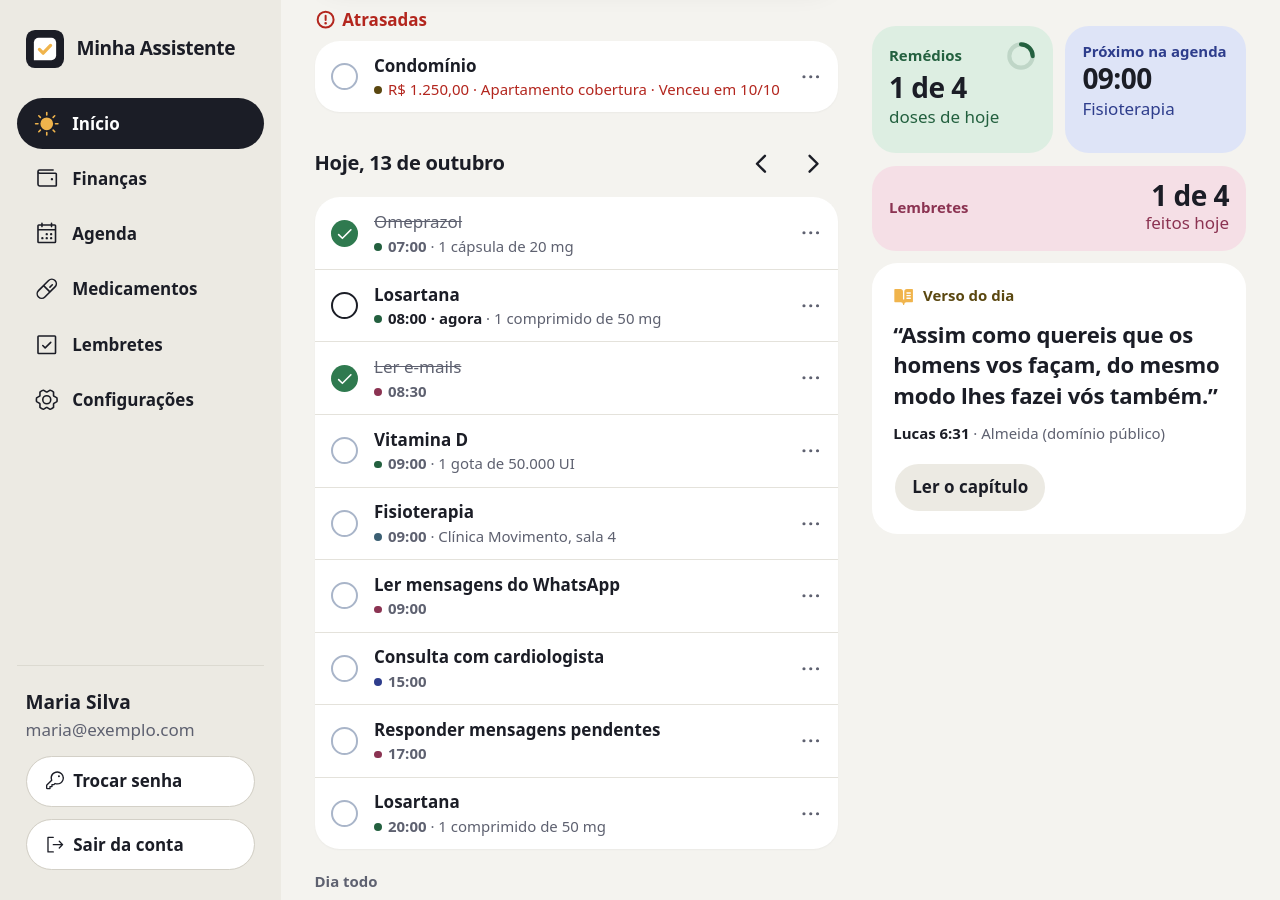
Test: tela Hoje: tarefas do dia › ✓ no remédio vale na tela de Remédios; tocar de novo desfaz
This screenshot has width=1280, height=900.
(page scrolled)
What coordinates should you click on to do the following:
click the button named "Tomei: Vitamina D"
I would click on:
 (344, 451)
Its box is [319,425,370,476].
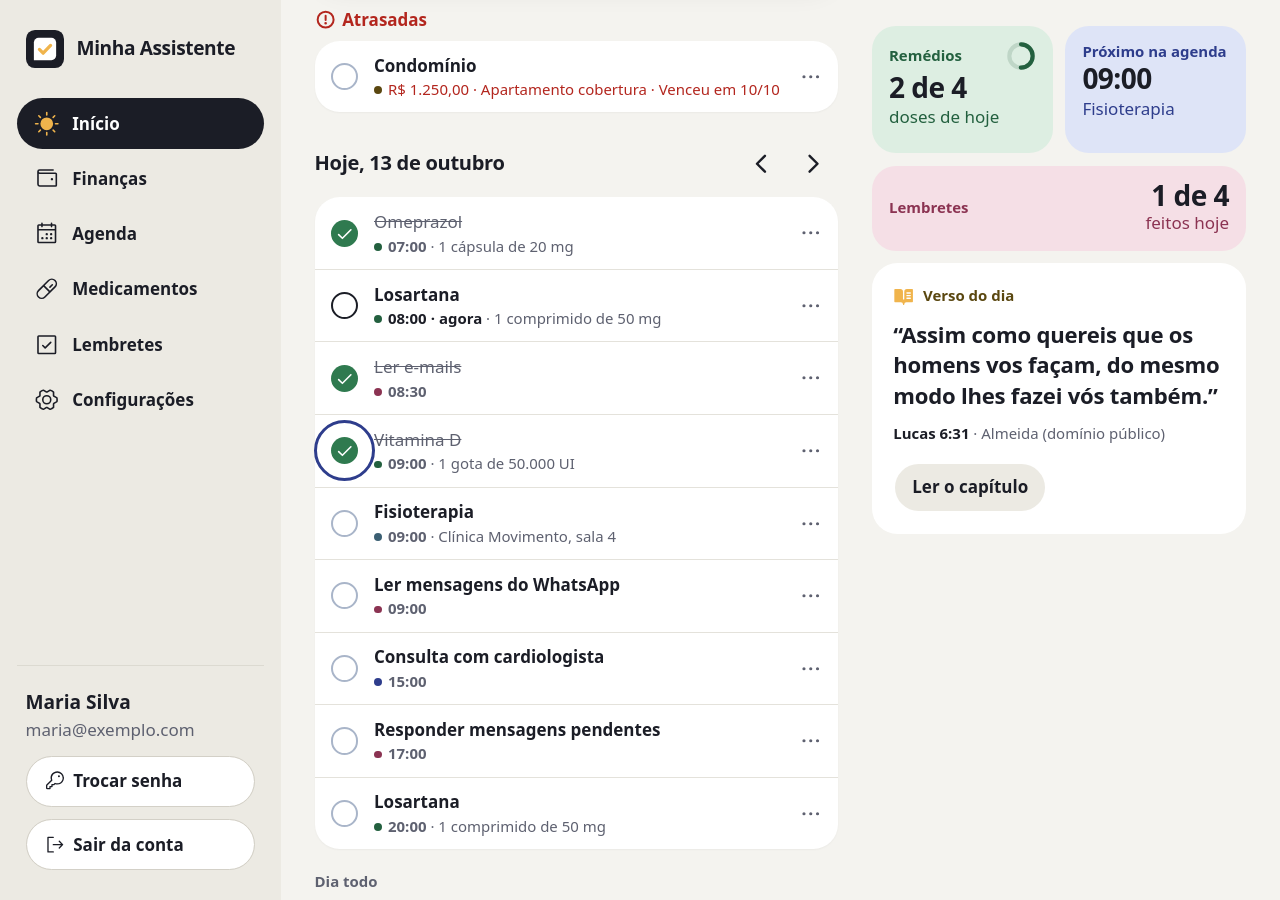
Now the button named "Tomei: Vitamina D" is pressed
What coordinates should you click on to do the following:
click the button named "Tomei: Vitamina D"
I would click on:
 (344, 451)
Its box is [319,425,370,476].
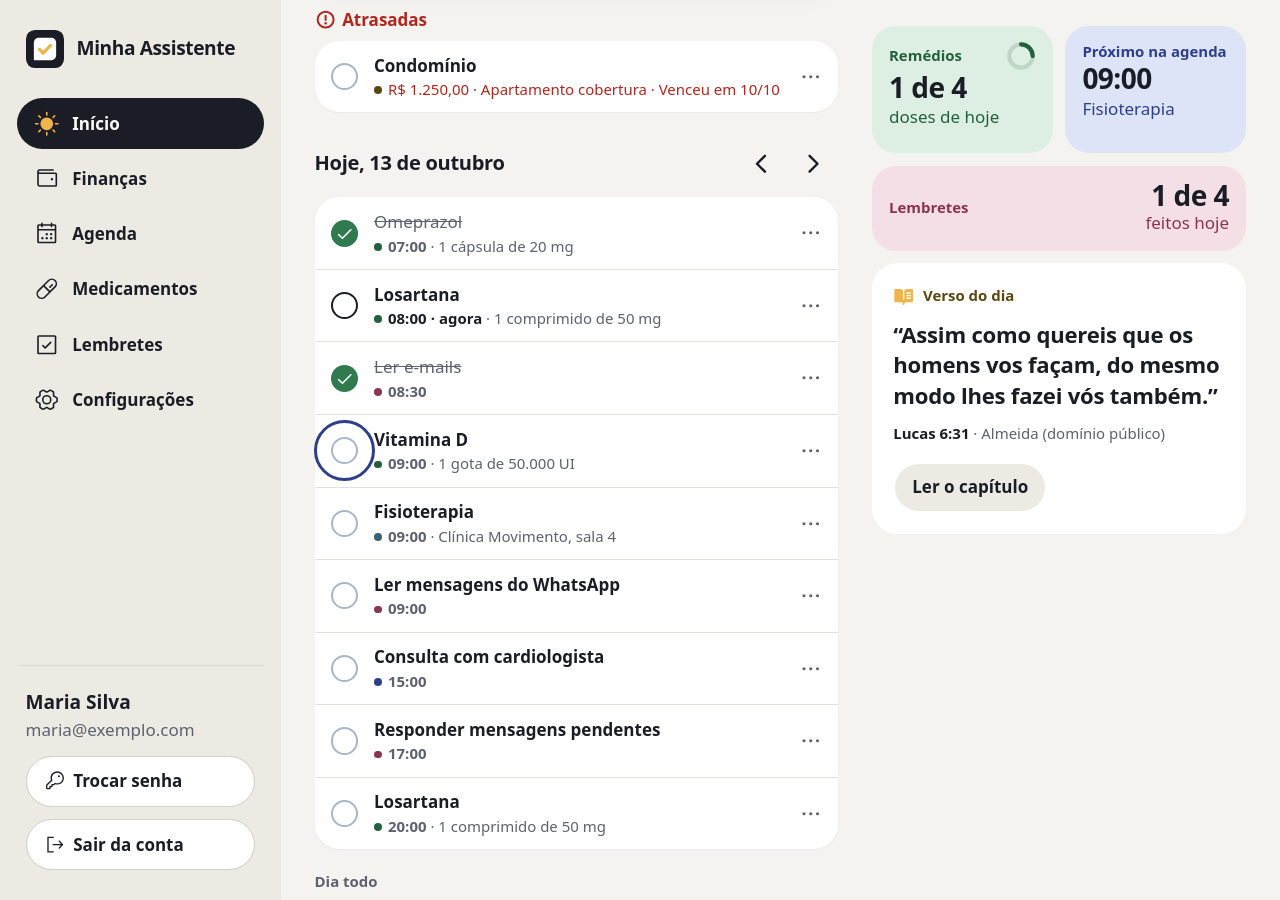
Now the button named "Tomei: Vitamina D" is not pressed
What coordinates should you click on to do the following:
click the button named "Tomei: Vitamina D"
I would click on:
 (344, 451)
Its box is [319,425,370,476].
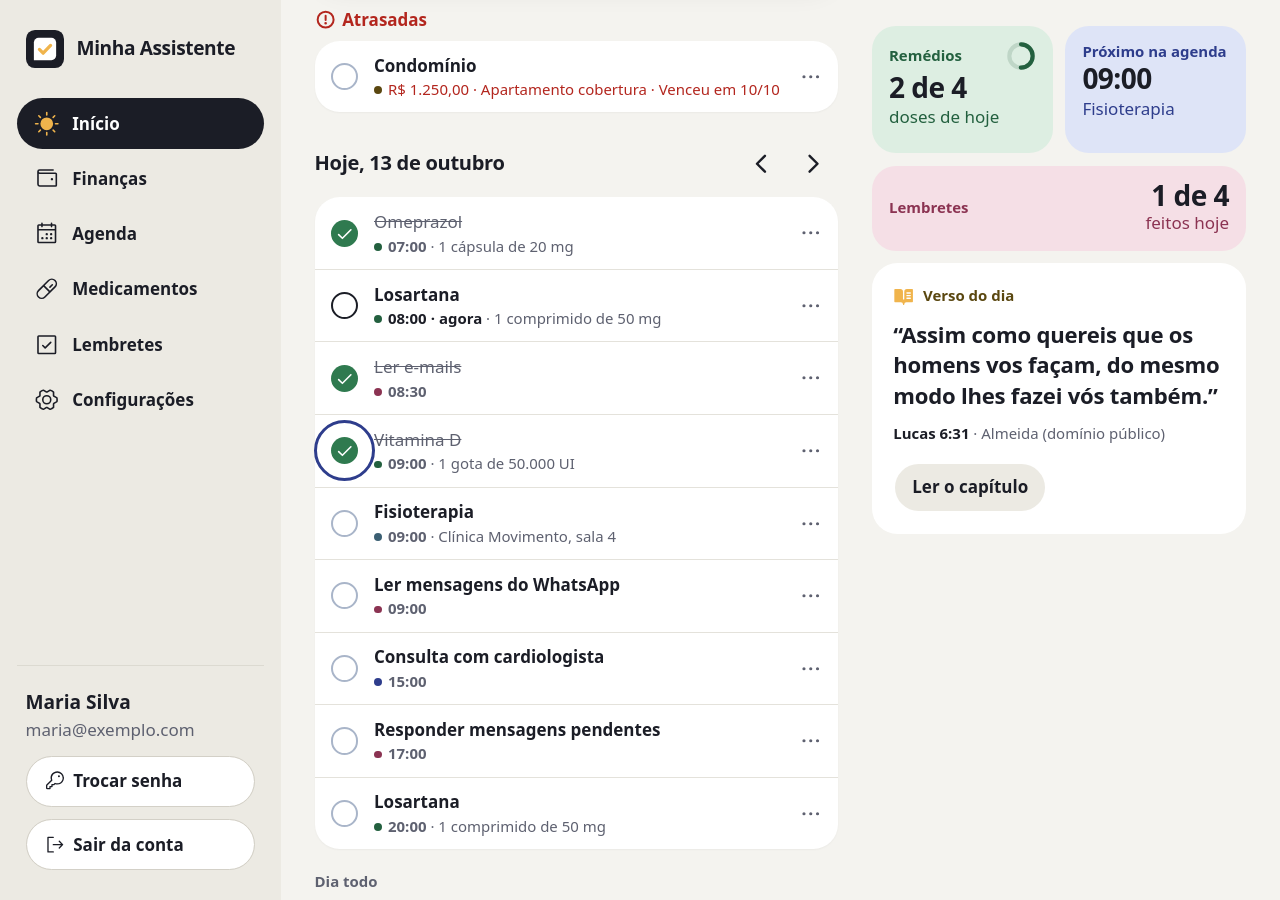
What coordinates should you click on to do the following:
click the link "Medicamentos"
I would click on:
 (116, 289)
Its box is [34,276,198,302].
(page scrolled)
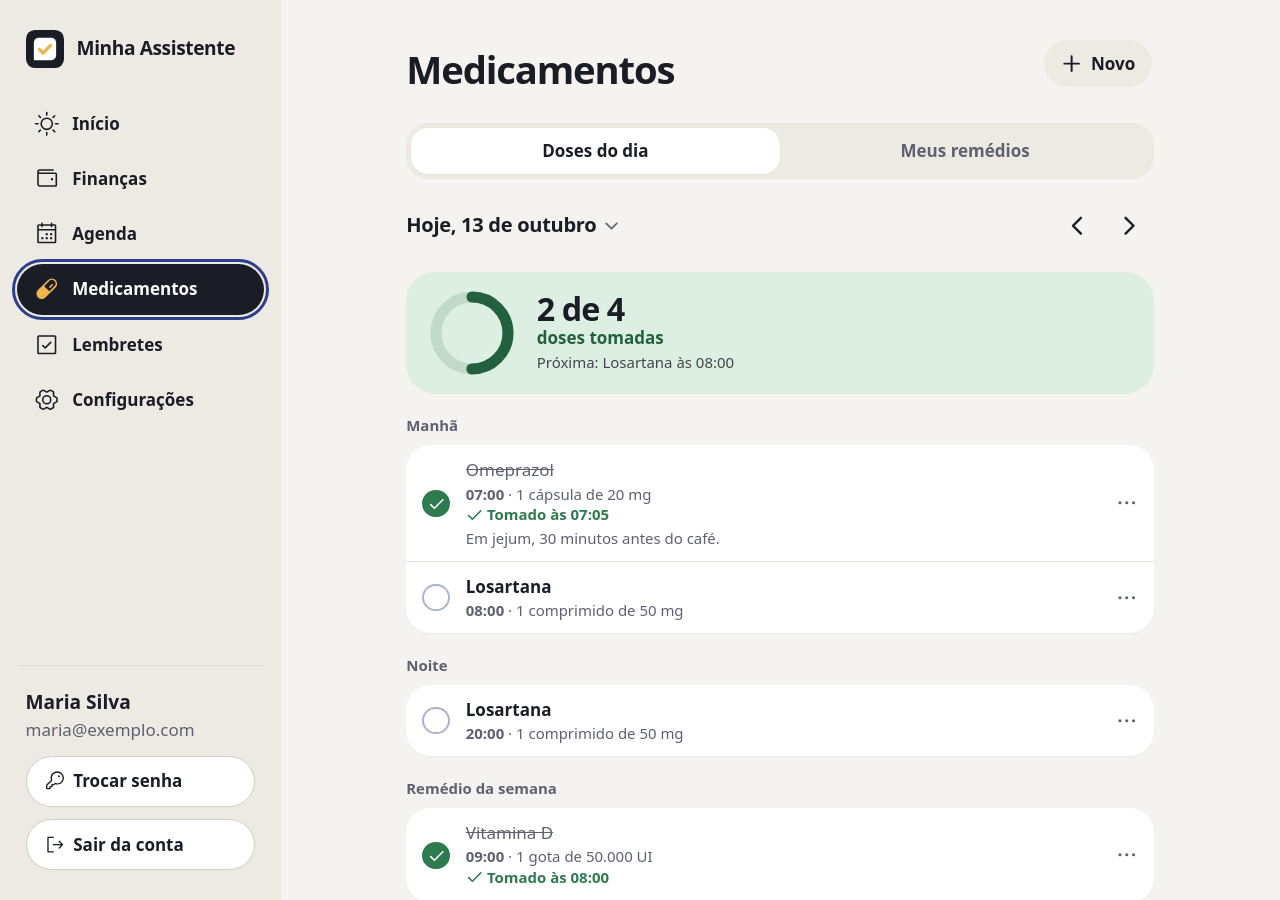
Now the element named "Doses do dia" shows "2 de 4 doses tomadas", box [406,272,1154,394]
